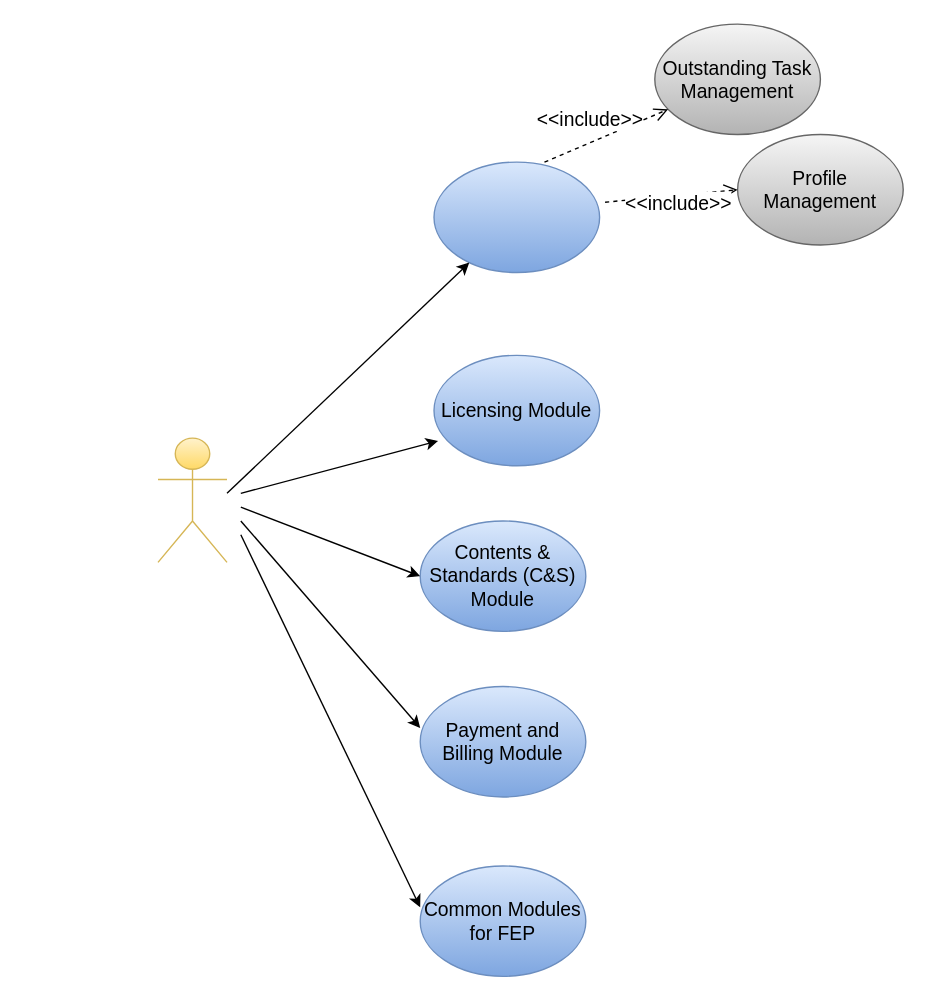
The diagram is 927 pixels wide and 1001 high, and some of its shapes have lost their labels. Each missing label, with the box of its shape:
Dashboard Module: (433, 161, 600, 273)
Internet Front-End Portal(FEP): (157, 437, 227, 562)
